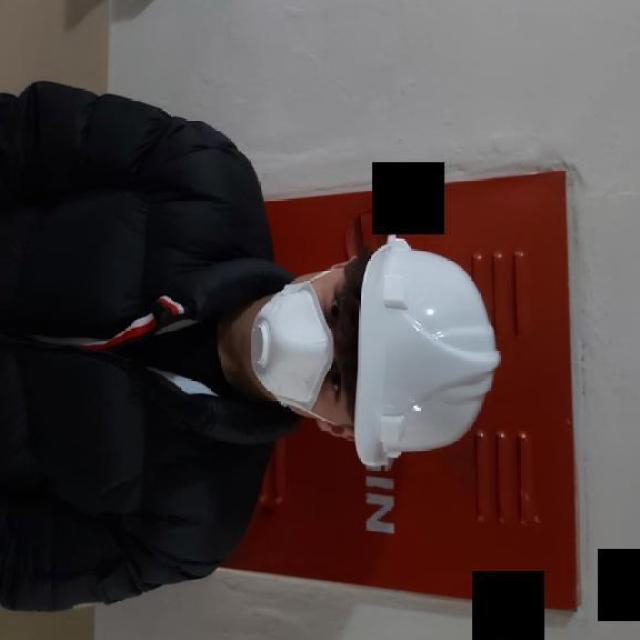helmet: (352, 233, 500, 470)
